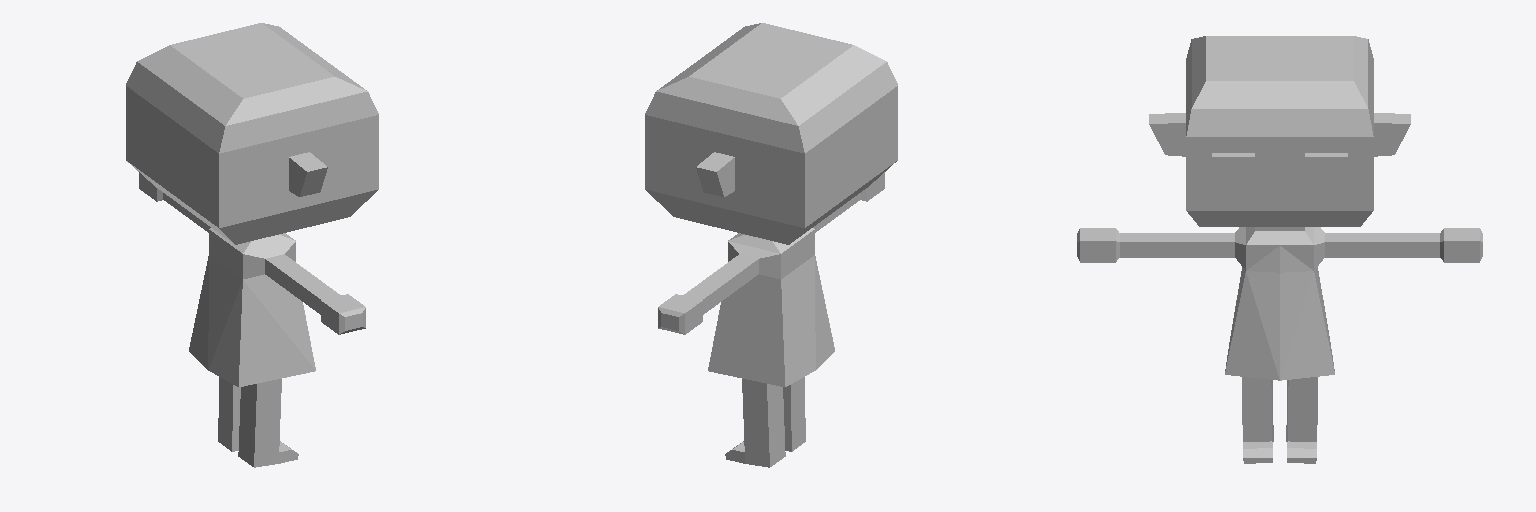
File: Ludzik6-textured-1-parts.obj
3 renders of one model, left to right at view 1: azimuth 30°, elevation 25°; view 2: azimuth 150°, elevation 25°; view 3: azimuth 270°, elevation 25°, orthographic.
Parts seen in each view (by area): view 1: Ludzik_Cube, Reka2_Cube.002; view 2: Ludzik_Cube, Reka2_Cube.002, Reka_Cube.001; view 3: Ludzik_Cube, Reka2_Cube.002, Reka_Cube.001.
Part boxes in pixels (x1,y1,x2,y2): Ludzik_Cube: (126,23,378,467); Reka2_Cube.002: (139,172,188,217); Ludzik_Cube: (645,23,897,467); Reka2_Cube.002: (658,277,727,334); Reka_Cube.001: (709,254,758,296); Ludzik_Cube: (1077,36,1410,463); Reka2_Cube.002: (1387,228,1482,262); Reka_Cube.001: (1325,233,1386,257).
Bounding box in the file's own units: 6.28 × 14.06 × 13.19.